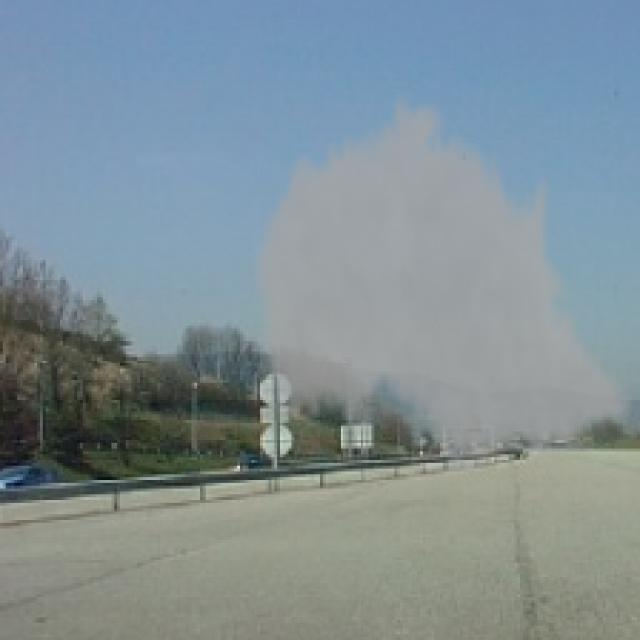smoke: (249, 89, 634, 488)
